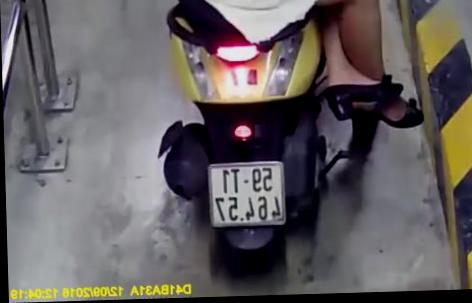License_Plate: (202, 155, 291, 235)
